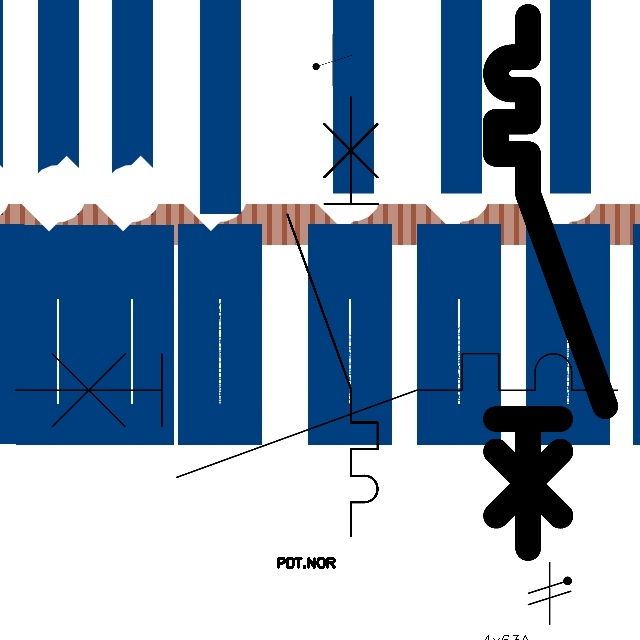interruptor_termomagnetico: (0, 338, 633, 493), (482, 3, 619, 562), (276, 86, 389, 547)
